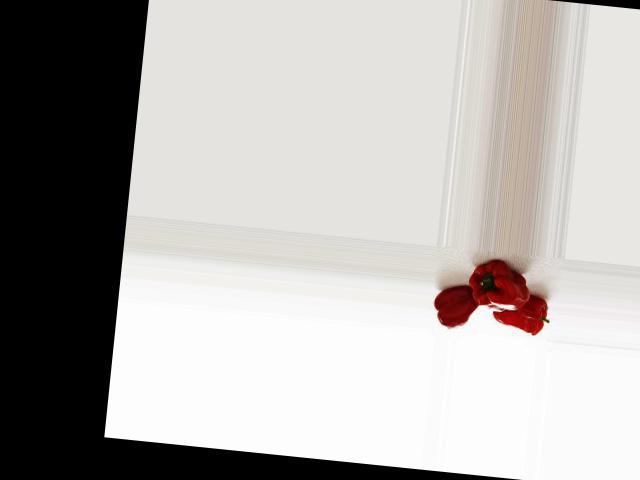bell_pepper: (429, 280, 477, 330)
